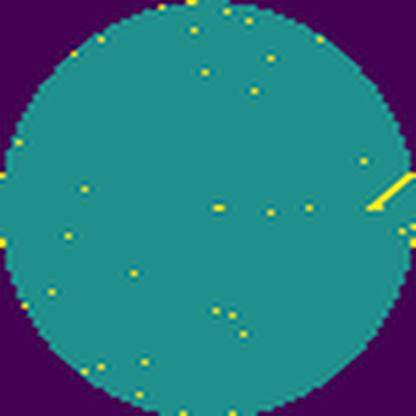Scratch: (362, 170, 416, 218)
